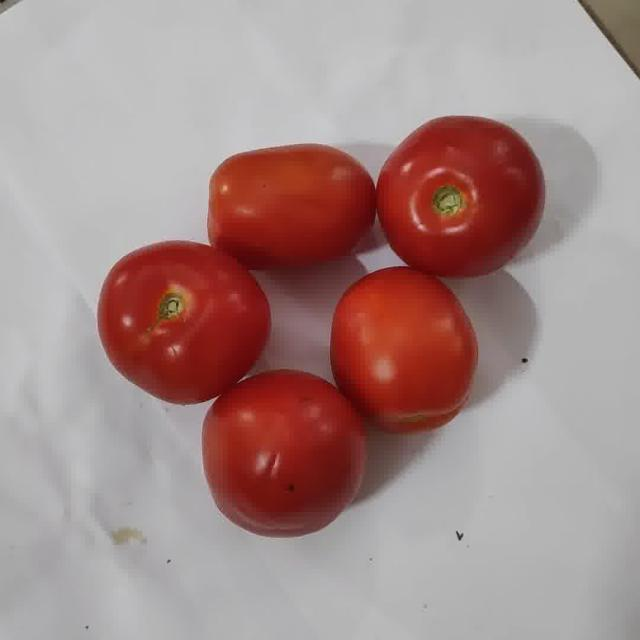Tomato: (97, 241, 270, 405), (202, 370, 365, 536), (377, 117, 543, 276), (330, 267, 477, 431), (207, 145, 375, 268)
